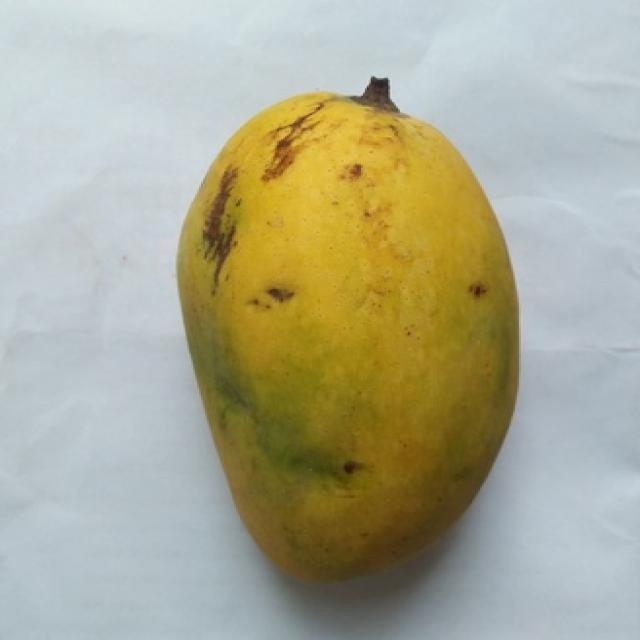Mango: (178, 78, 515, 576)
